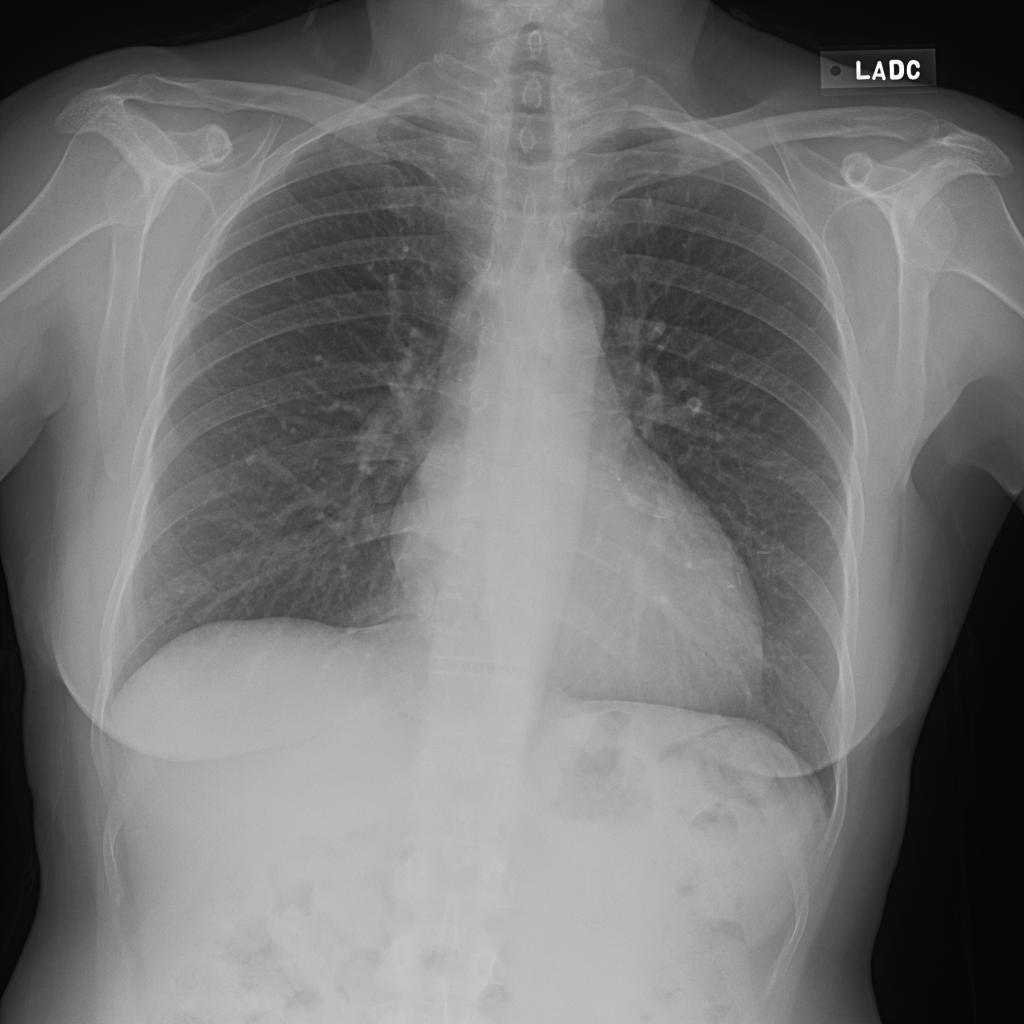Nodule: (160, 225, 183, 255), (342, 200, 358, 221), (121, 225, 136, 241)
